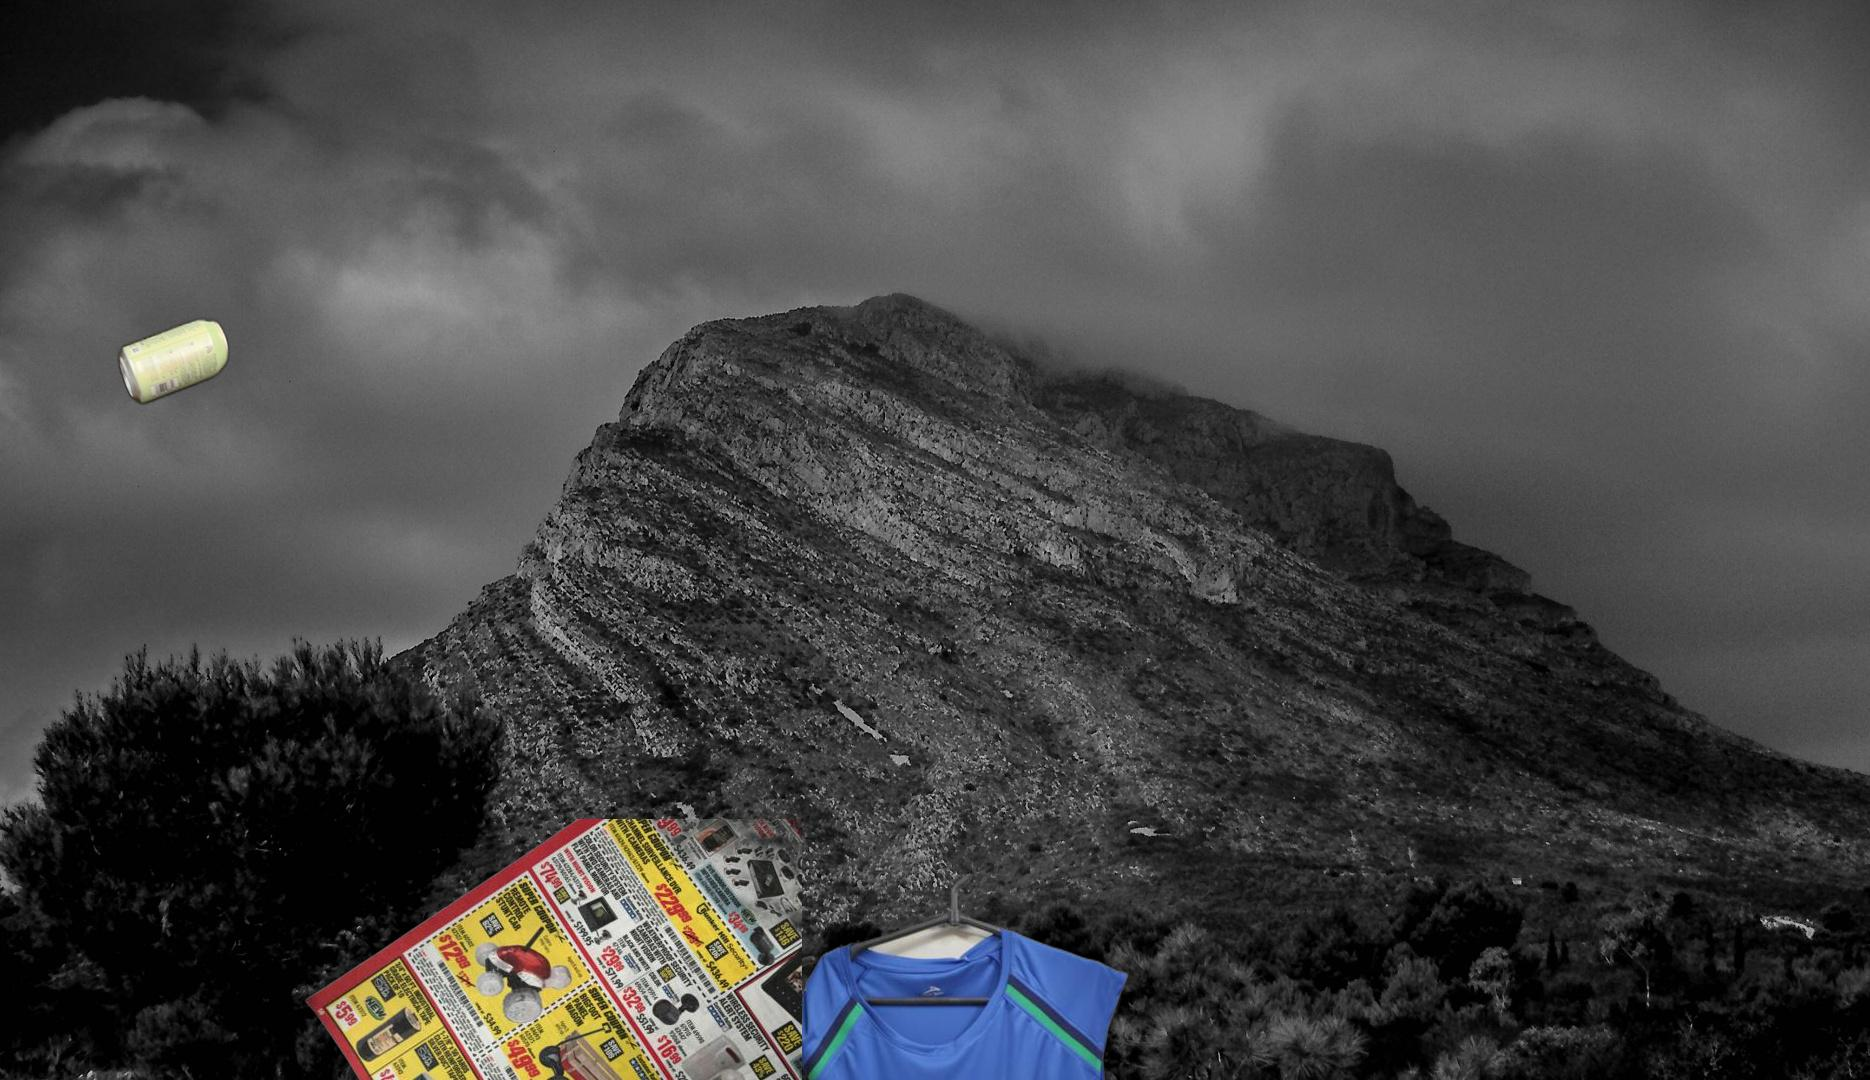clothes: (787, 874, 1131, 1080)
metal-cans: (114, 312, 233, 411)
paper: (301, 819, 802, 1080)
